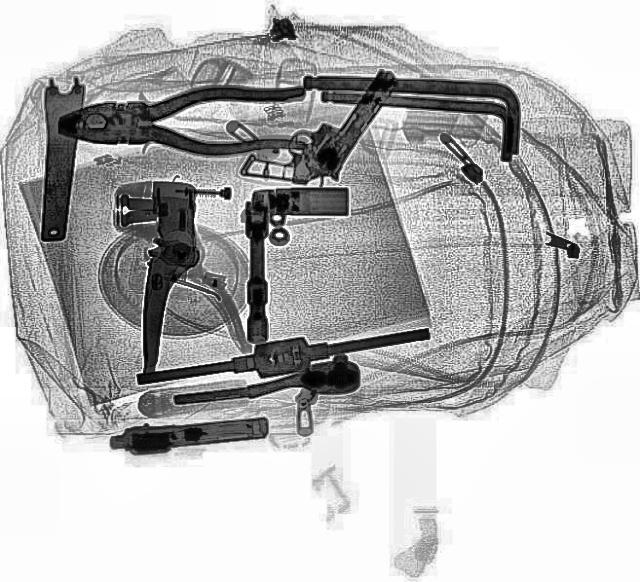Gun: (236, 42, 408, 210), (106, 410, 272, 456)
Pliers: (56, 87, 304, 157)
